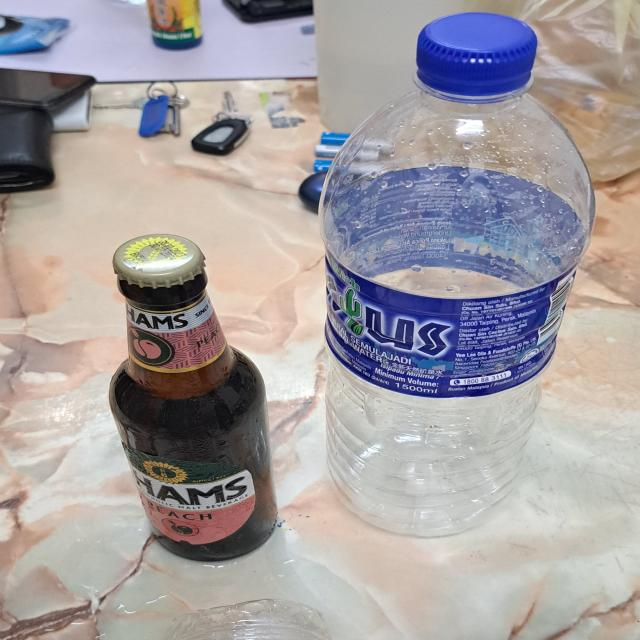glass bottle: (110, 232, 278, 562)
plastic bottle: (322, 12, 594, 534)
plastic bottle cap: (418, 13, 538, 98)
